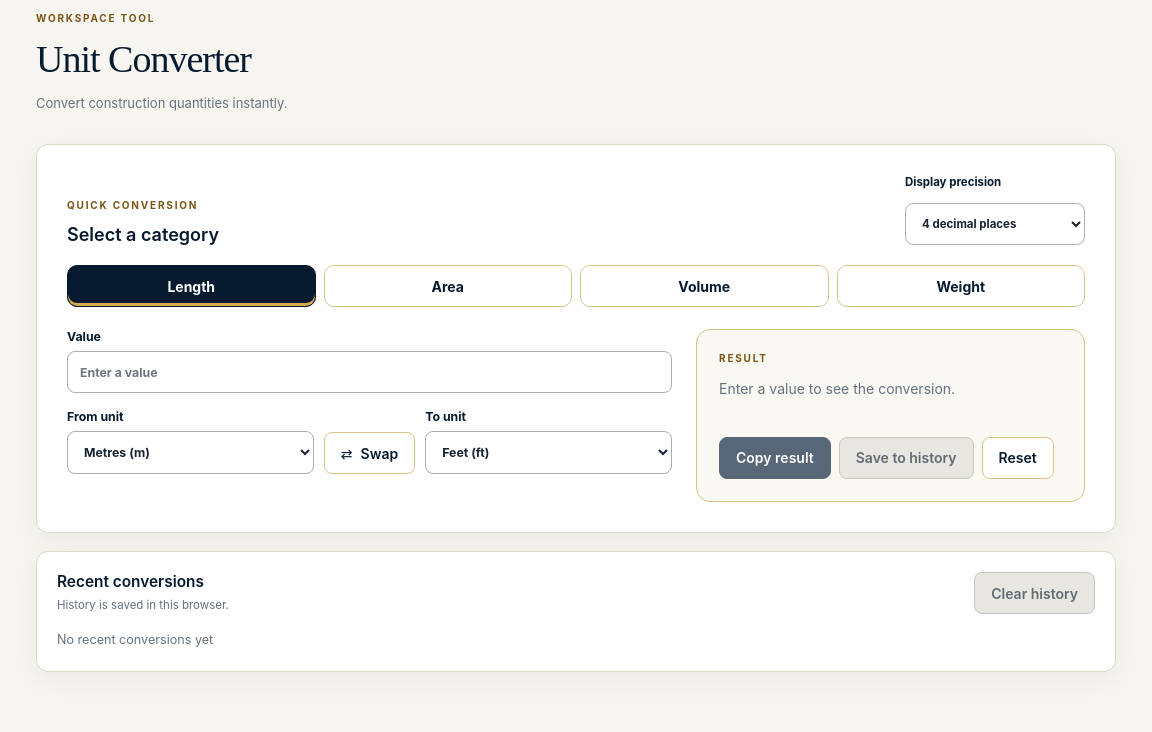
Test: Unit Converter page › supports compound feet and inches, precision and inline validation
Select "Feet + Inches (ft + in)" in the dropdown labelled "From unit" at (190, 453), box [67,431,314,474]
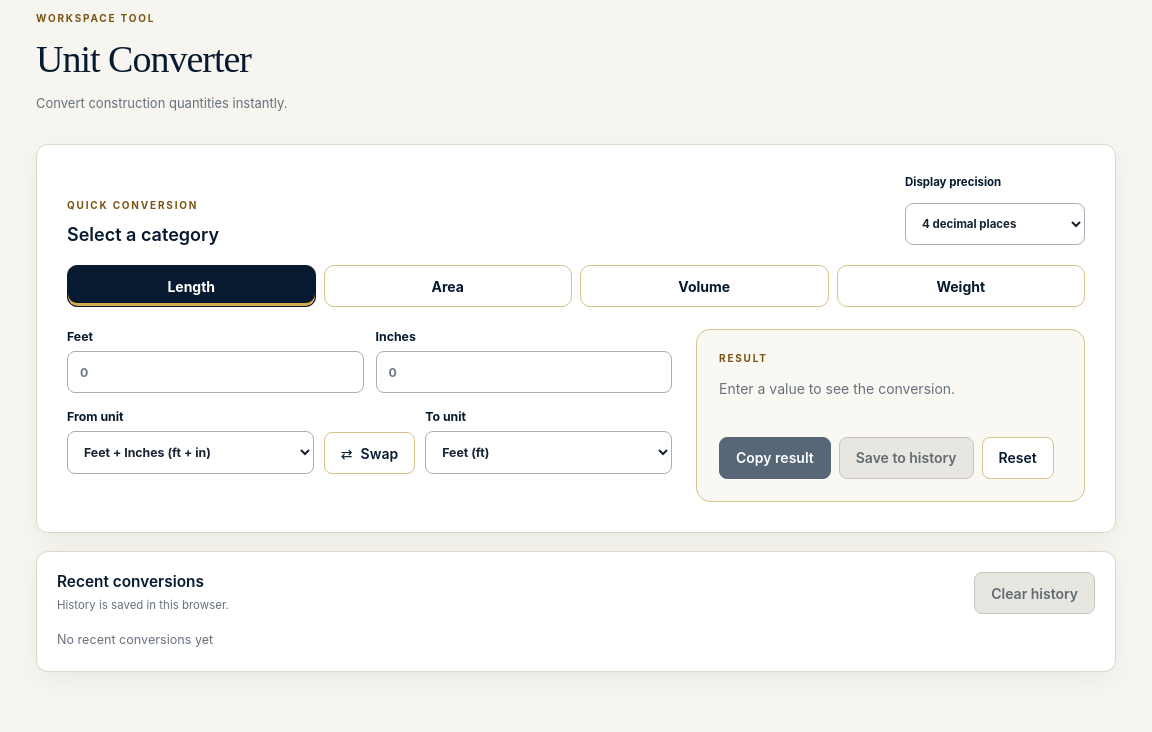
Select "Metres (m)" in the dropdown labelled "To unit" at (549, 453), box [425,431,672,474]
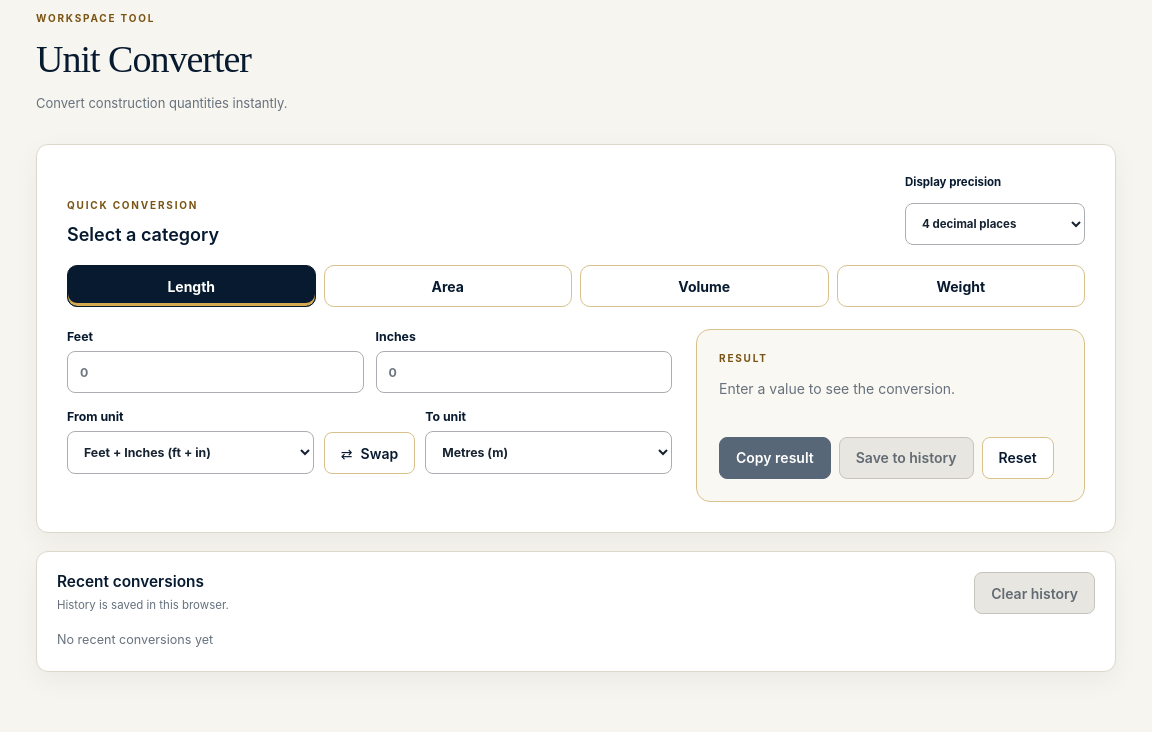
Type "5" into the field labelled "Feet" at (215, 372), box [67,351,364,393]
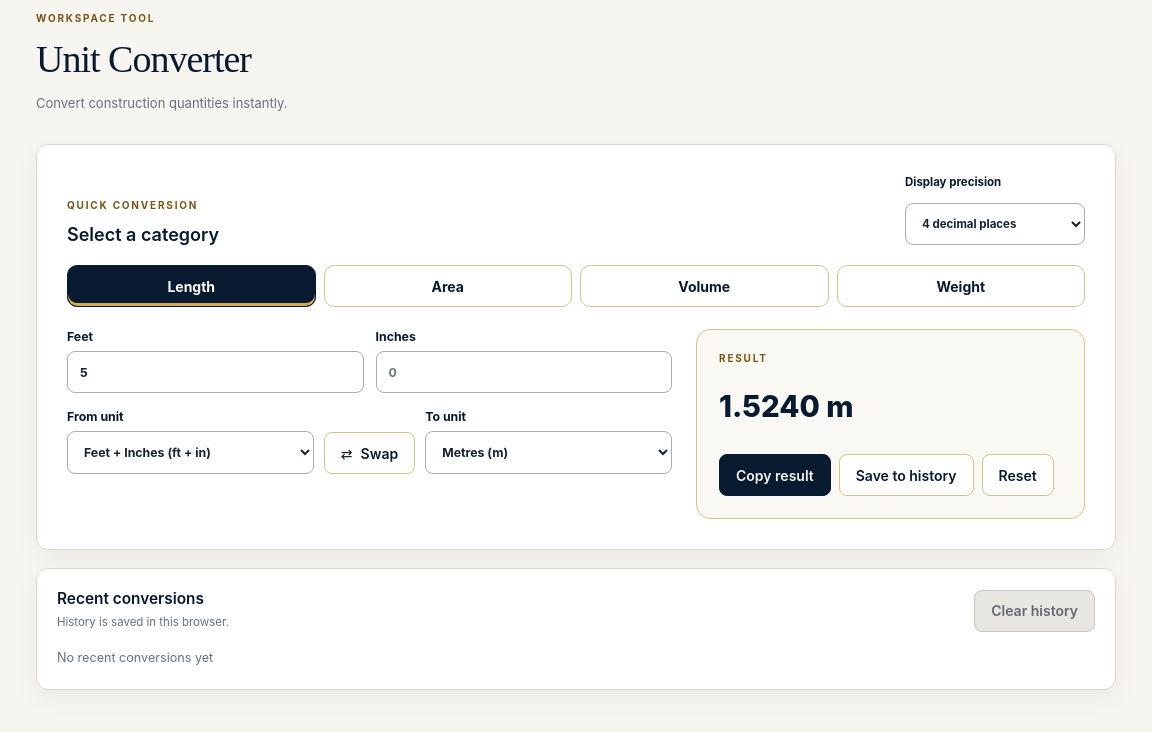
Type "6" into the field labelled "Inches" at (524, 372), box [376,351,672,393]
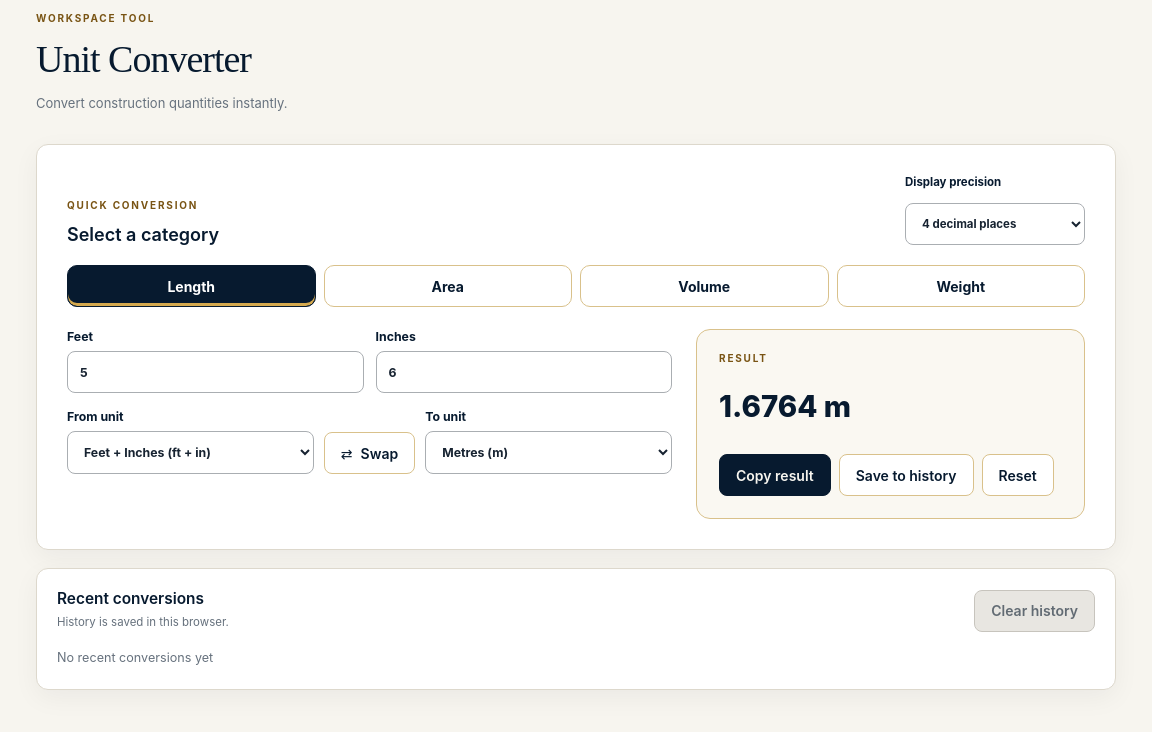
Expected: the text named "Converted result" reads "1.6764 m", [719,389,851,424]
Select "2 decimal places" in the dropdown labelled "Display precision" at (995, 224), box [905,203,1085,245]
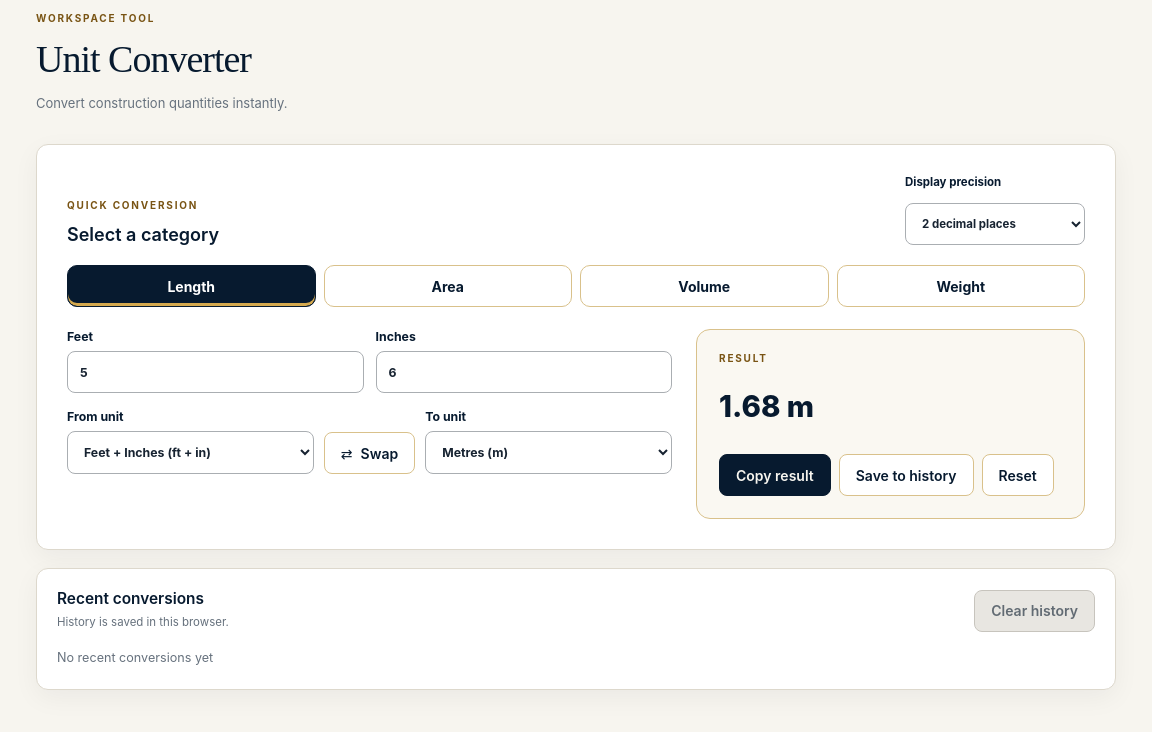
Expected: the text named "Converted result" reads "1.68 m", [719,389,814,424]
Replace the text in the field labelled "Inches" with "12" at (524, 372), box [376,351,672,393]
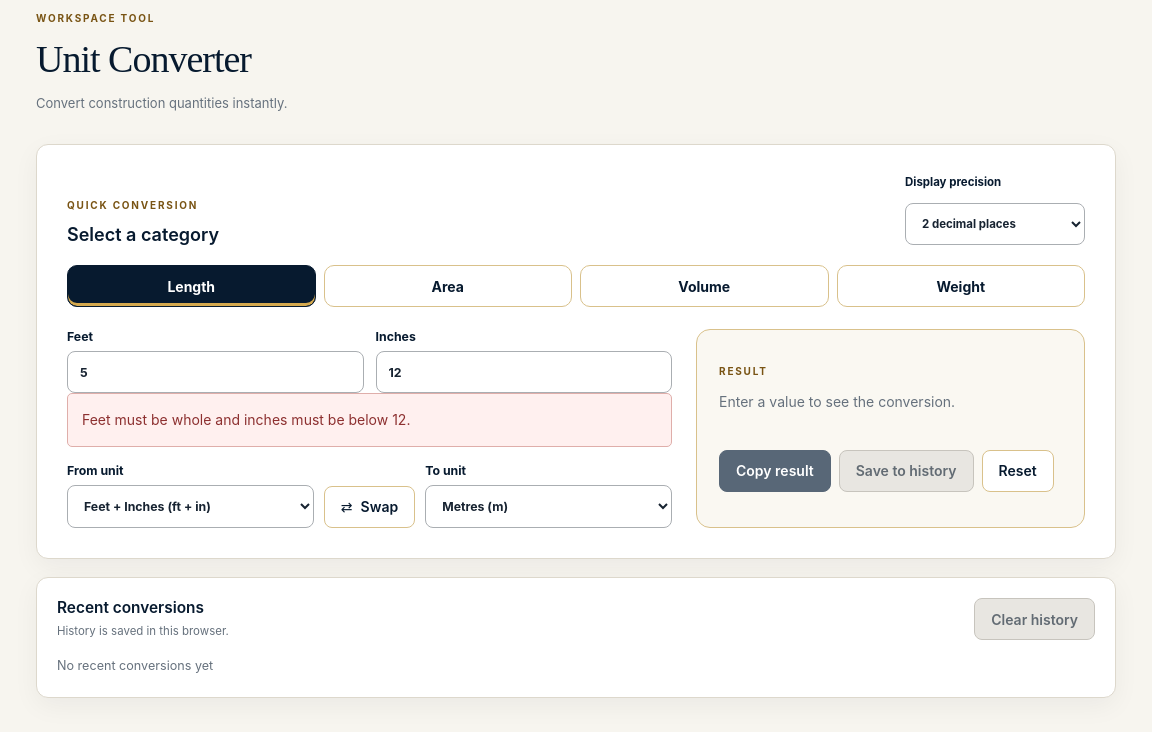
Expected: the message shows "below 12", [82,411,410,428]
